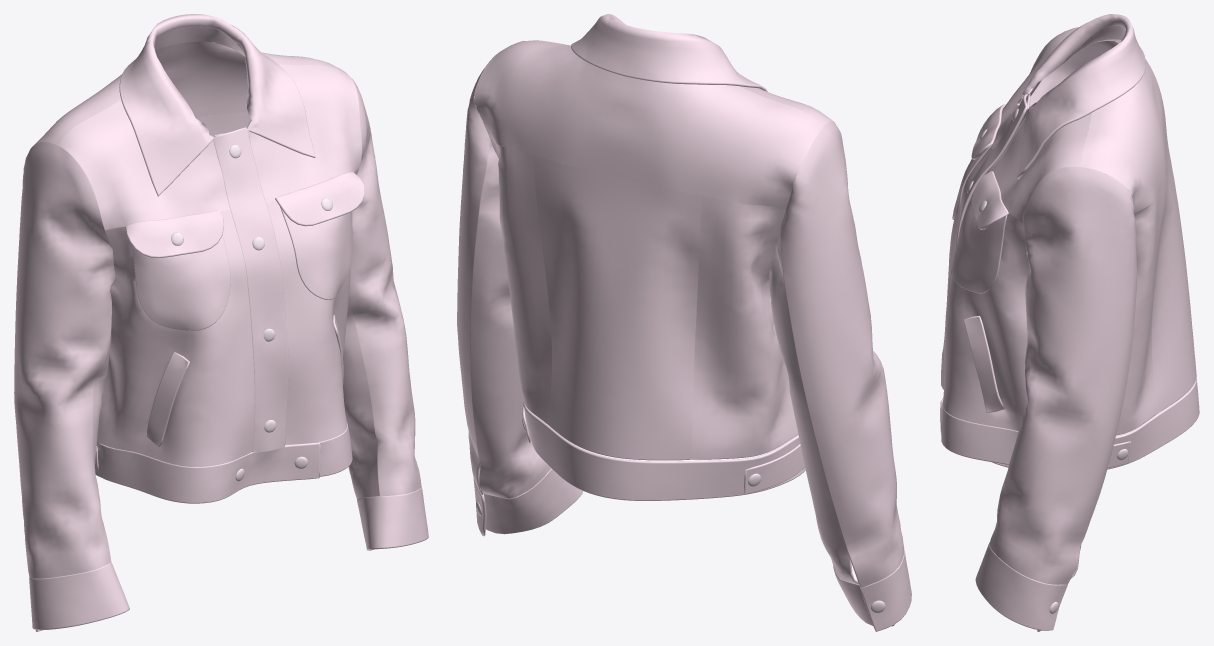
File: source.glb
3 views of the same model, side by side, from view 1: azimuth 30°, elevation 25°; view 2: azimuth 150°, elevation 25°; view 3: azimuth 270°, elevation 25° (orthographic). The views are drawn at different scales.
Parts seen in each view (by area): view 1: Object_3, Object_5, Object_4, Object_2, Object_6, Object_8; view 2: Object_6, Object_3, Object_5, Object_2, Object_7, Object_4; view 3: Object_2, Object_4, Object_3, Object_6, Object_5, Object_7, Object_8.
Boxes of the visible parts, x1,y1,x2,y2 form: Object_3: [57, 64, 361, 466]; Object_5: [14, 142, 364, 578]; Object_4: [96, 14, 358, 503]; Object_2: [29, 78, 428, 631]; Object_6: [31, 41, 379, 499]; Object_8: [171, 144, 332, 481]; Object_6: [470, 42, 823, 498]; Object_3: [513, 40, 832, 460]; Object_5: [769, 120, 903, 587]; Object_2: [457, 56, 911, 631]; Object_7: [523, 401, 805, 500]; Object_4: [571, 14, 767, 91]; Object_2: [967, 94, 1136, 631]; Object_4: [940, 14, 1145, 434]; Object_3: [942, 27, 1196, 411]; Object_6: [1071, 39, 1166, 578]; Object_5: [941, 41, 1118, 464]; Object_7: [1107, 378, 1199, 469]; Object_8: [950, 108, 1128, 613].
Bounding box in the file's own units: 0.4901 × 0.6504 × 0.2943.
2 materials, 1 textured.
